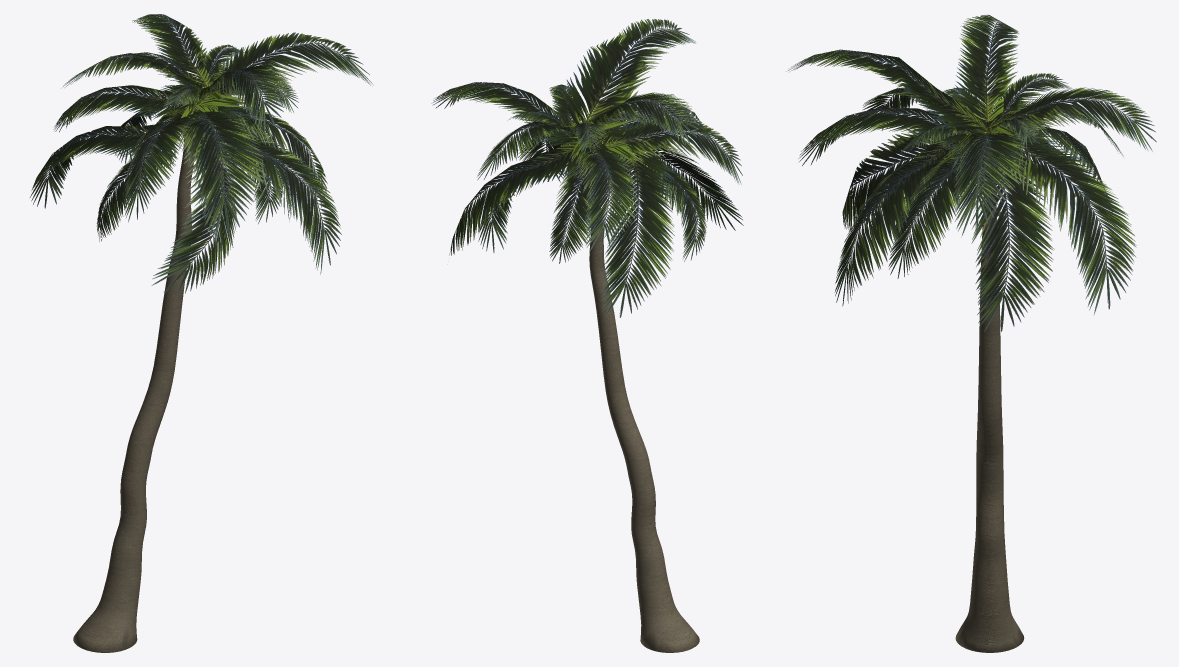
The model's file is palm_slim.glb.
The picture shows the model from 3 angles, left to right: view 1: azimuth 30°, elevation 25°; view 2: azimuth 150°, elevation 25°; view 3: azimuth 270°, elevation 25°; orthographic projection. The views are drawn at different scales.
Parts seen in each view (by area): view 1: Cylinder.001; view 2: Cylinder.001; view 3: Cylinder.001.
Boxes of the visible parts, box(x1,y1,x2,y2) form: Cylinder.001: box(30, 14, 373, 652); Cylinder.001: box(431, 19, 743, 652); Cylinder.001: box(788, 14, 1156, 652).
Size of the model in its own units: 2.57 by 4.5 by 2.47.
Materials: 2 (2 with a texture image).
